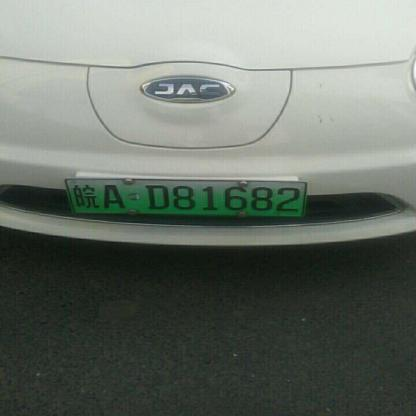lp: (65, 178, 307, 215)
